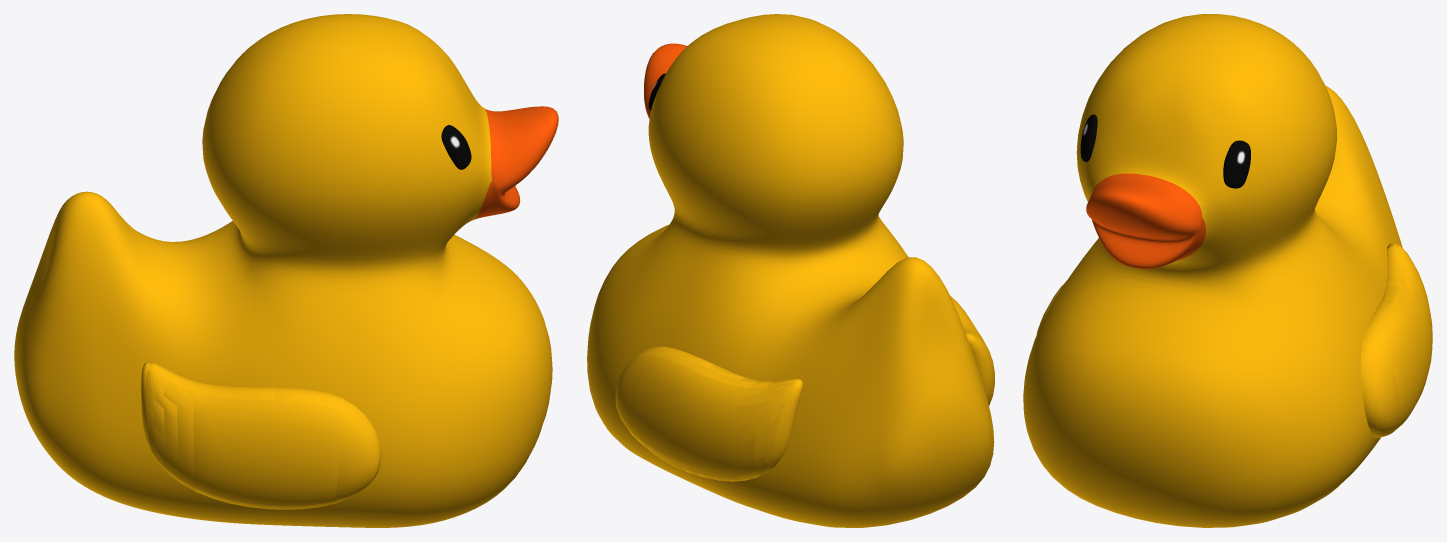
File: rubber_duck.glb
3 views of the same model, side by side, from view 1: azimuth 30°, elevation 25°; view 2: azimuth 150°, elevation 25°; view 3: azimuth 270°, elevation 25° (orthographic). The views are drawn at different scales.
Visible parts, largest first — view 1: Object_4, Object_7, Object_5, Object_9; view 2: Object_4, Object_7, Object_5; view 3: Object_4, Object_7, Object_5, Object_9.
Part boxes in pixels (bbox=[...]): Object_4: bbox=[14, 14, 552, 527]; Object_7: bbox=[141, 361, 381, 509]; Object_5: bbox=[475, 106, 558, 219]; Object_9: bbox=[441, 125, 471, 169]; Object_4: bbox=[587, 14, 994, 527]; Object_7: bbox=[615, 295, 994, 481]; Object_5: bbox=[644, 43, 687, 118]; Object_4: bbox=[1023, 14, 1402, 527]; Object_7: bbox=[1036, 243, 1432, 437]; Object_5: bbox=[1086, 173, 1205, 268]; Object_9: bbox=[1080, 114, 1250, 188].
Size of the model in its own units: 0.9928 by 0.9842 by 0.7997.
Materials: 3 (1 with a texture image).
